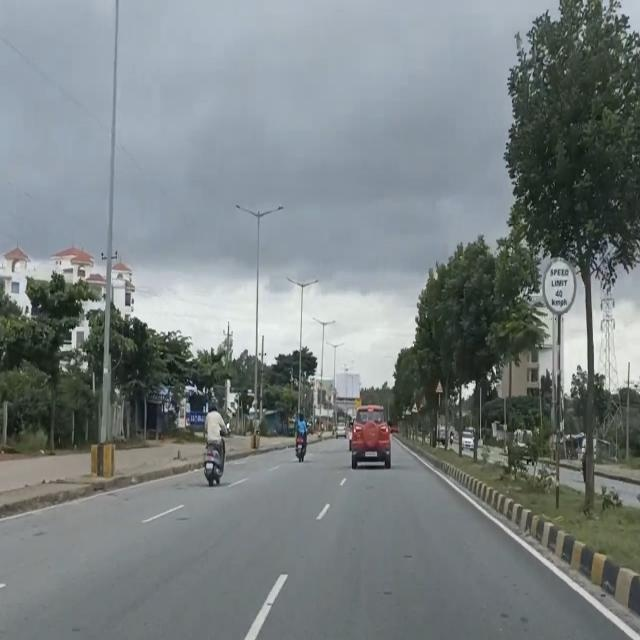bien_nguy_hiem: (540, 254, 578, 318)
